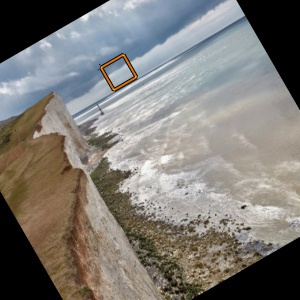square: (97, 50, 142, 92)
